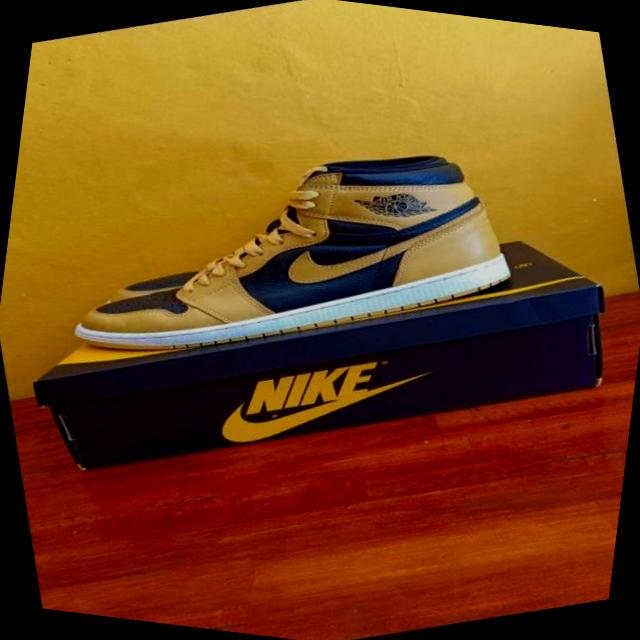nike_original_jordan: (33, 87, 536, 421)
